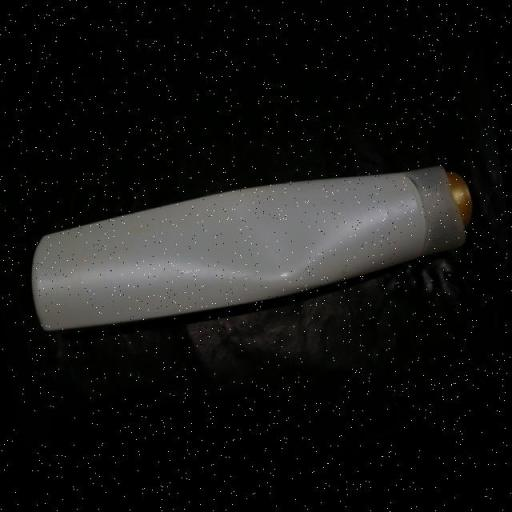plastic: (0, 116, 510, 370)
